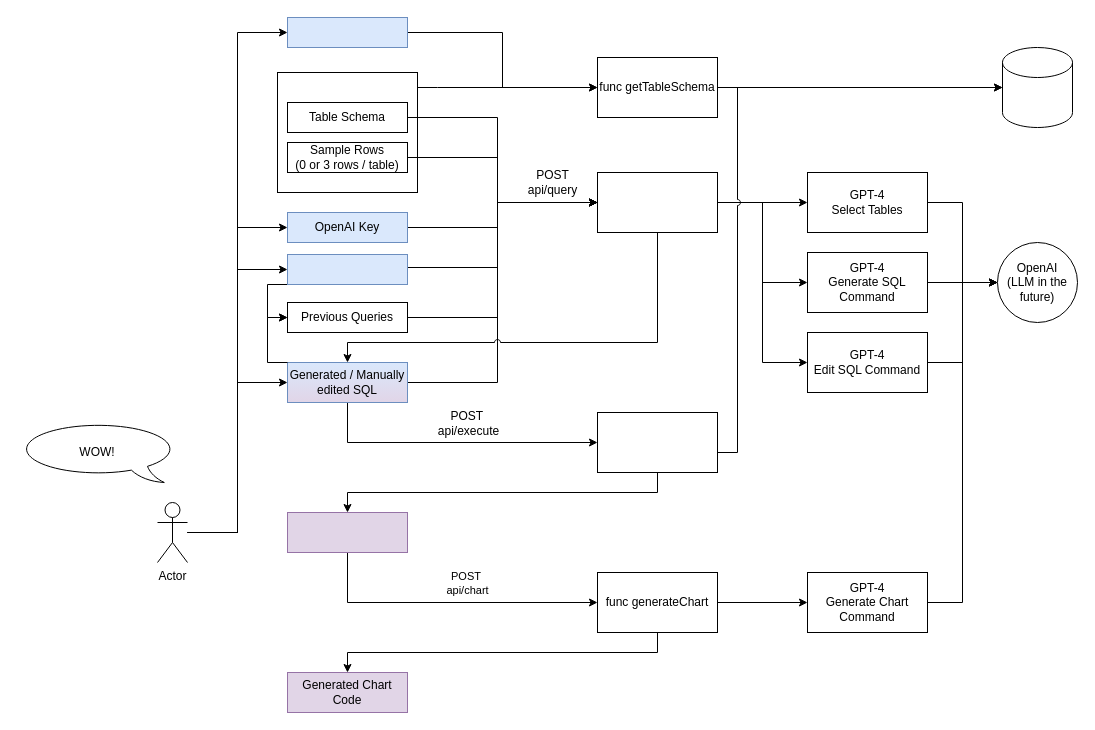
Image size: 1095x730. Some labels were removed from this diagram. Each missing label, with the box of its shape:
Database Connection: (1002, 46, 1072, 128)
DB Connection Info: (286, 16, 408, 48)
Fetched Data: (286, 512, 408, 552)
func execute: (596, 412, 718, 472)
func generateQuery: (596, 172, 718, 232)
useQuery: (276, 72, 418, 192)
User Question: (286, 254, 408, 284)
